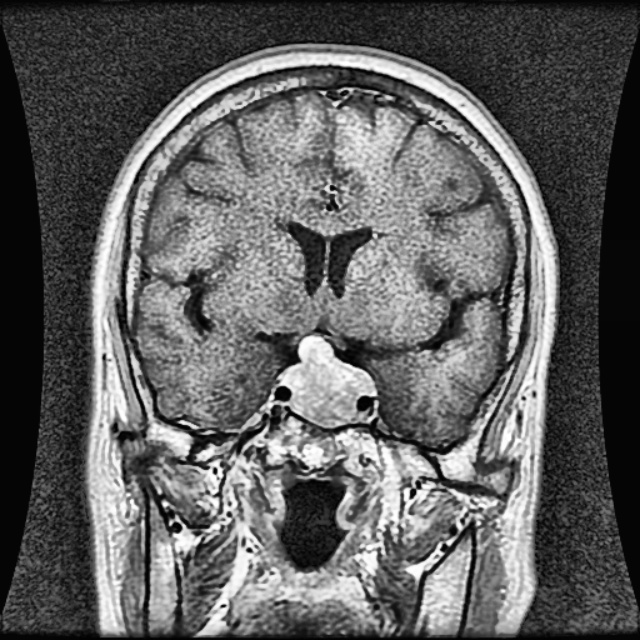Pituitary: (278, 339, 373, 423)
